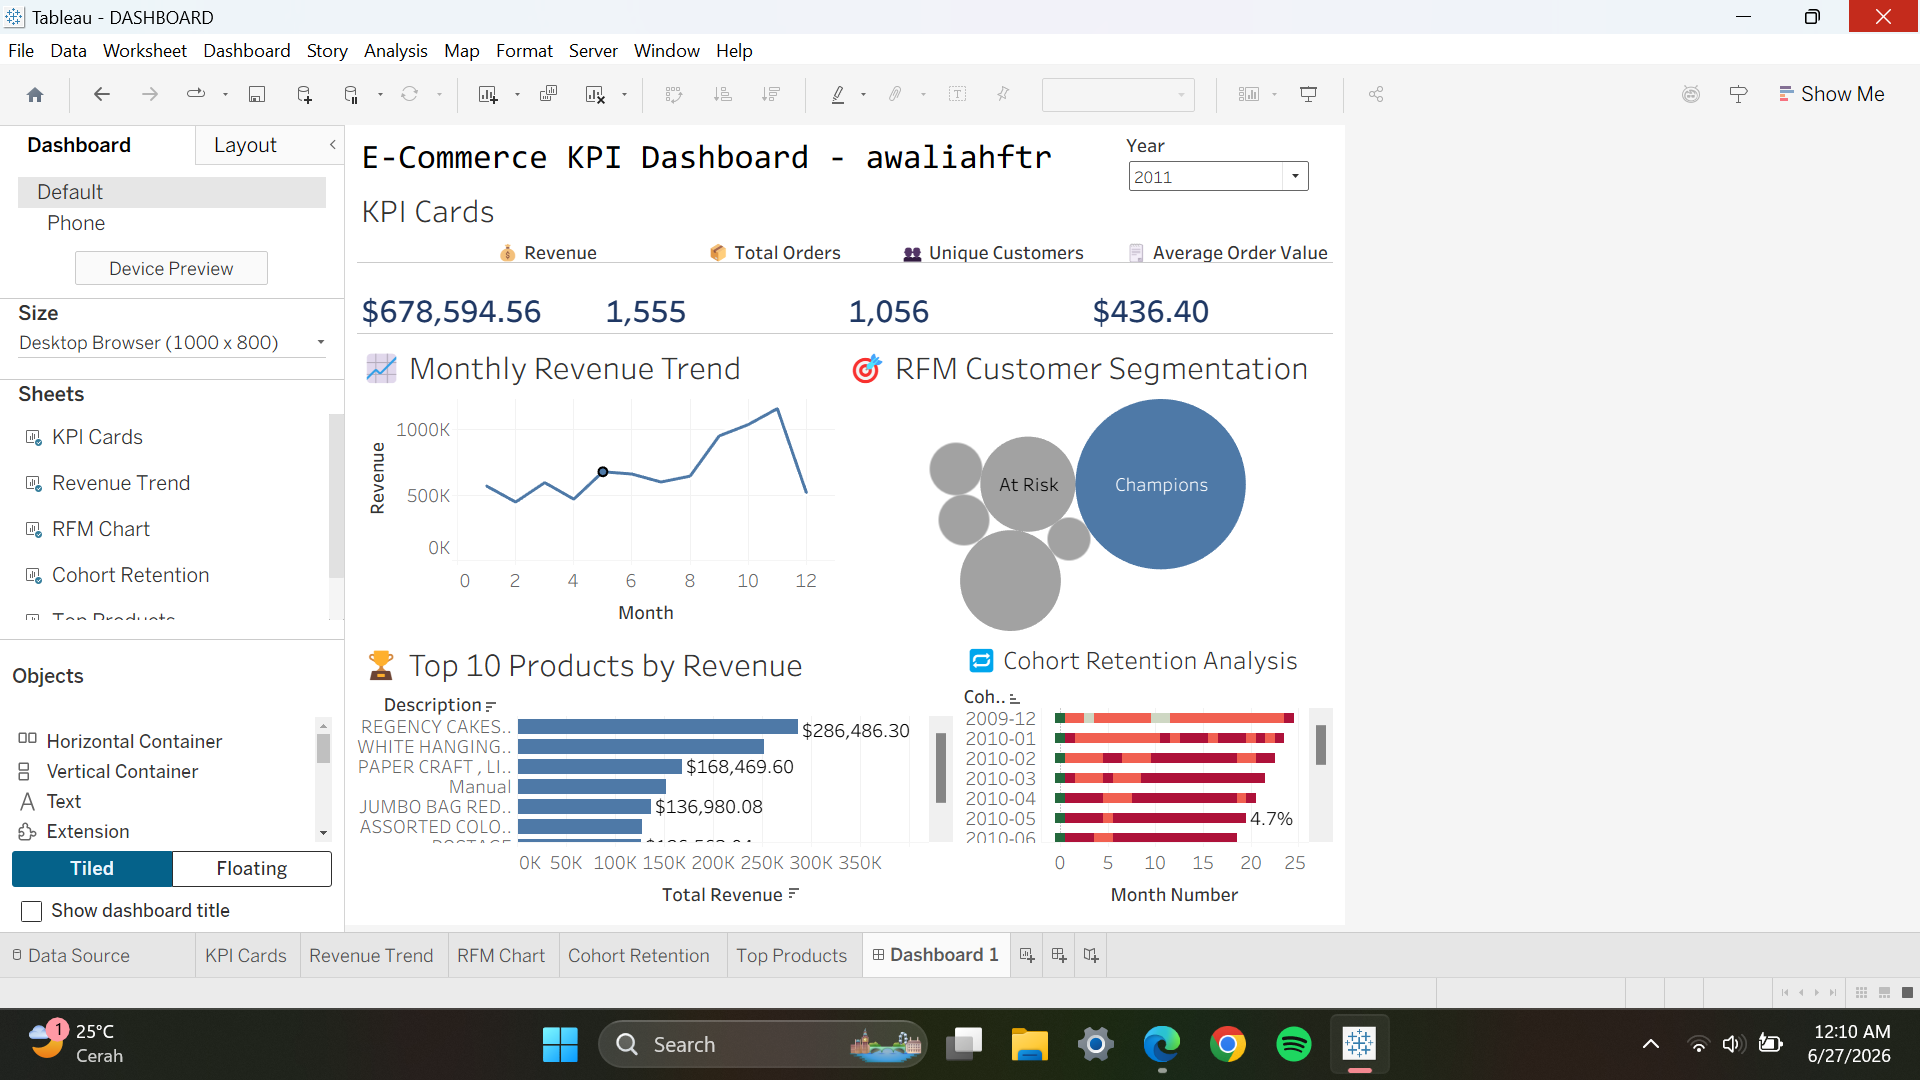

The dashboard page shown, as its layout file describes it:
{"tool":"tableau","page":{"name":"Dashboard 1","canvas":[1000,800],"ordinal":0},"visuals":[{"type":"filter","title":"Revenue Trend","param":"[federated.0myut1x1gupg6218b7rn31i4opty].[none:year:ok]","box":[781,7,186,74]},{"type":"title","box":[8,8,984,48]},{"type":"worksheet","title":"KPI Cards","mark":"Automatic","box":[8,56,984,157]},{"type":"worksheet","title":"Revenue Trend","mark":"Automatic","rows":["revenue"],"cols":["month"],"box":[8,213,486,297.4]},{"type":"worksheet","title":"RFM Chart","mark":"Circle","box":[494,213,498,297.4]},{"type":"worksheet","title":"Top Products","mark":"Automatic","rows":["description"],"cols":["total_revenue"],"box":[8,510.4,604,281.6]},{"type":"worksheet","title":"Cohort Retention","mark":"Square","rows":["cohort"],"cols":["month_number"],"box":[612,510.4,380,281.6]}]}

Visuals, with their boxes on the page's 1000x800 design canvas (x1, y1, x2, y2). These are canvas units, not pixel positions in the 1920x1080 screenshot, which may show the page scaled, cropped or inside an application window:
"Revenue Trend" filter: (781,7,967,81)
title: (8,8,992,56)
"KPI Cards" worksheet: (8,56,992,213)
"Revenue Trend" worksheet: (8,213,494,510)
"RFM Chart" worksheet (Circle marks): (494,213,992,510)
"Top Products" worksheet: (8,510,612,792)
"Cohort Retention" worksheet (Square marks): (612,510,992,792)
